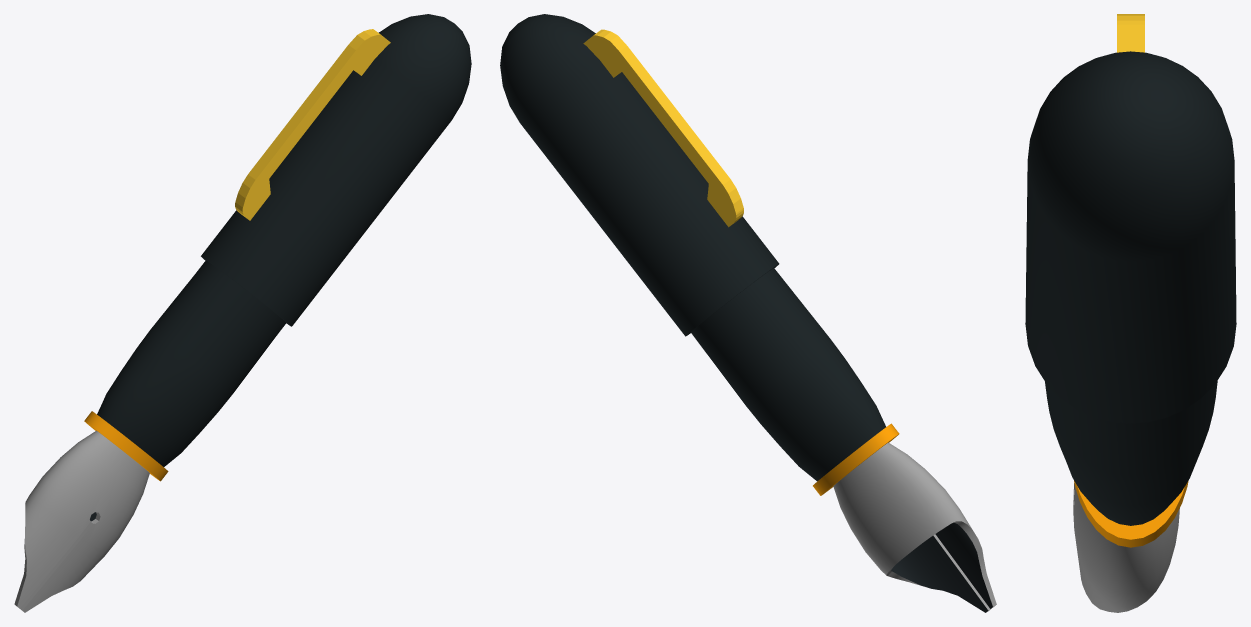
File: fountain_pen.glb
3 renders of one model, left to right at view 1: azimuth 30°, elevation 25°; view 2: azimuth 150°, elevation 25°; view 3: azimuth 270°, elevation 25°, orthographic. The views are drawn at different scales.
Parts seen in each view (by area): view 1: Cylinder.505, Cylinder.507; view 2: Cylinder.505, Cylinder.507; view 3: Cylinder.505, Cylinder.507.
Boxes of the visible parts, box(x1,y1,x2,y2) form: Cylinder.505: box(14, 14, 471, 612); Cylinder.507: box(235, 29, 390, 220); Cylinder.505: box(500, 14, 996, 612); Cylinder.507: box(583, 29, 743, 227); Cylinder.505: box(1025, 51, 1236, 612); Cylinder.507: box(1117, 14, 1144, 52).
Bounding box in the file's own units: 2.08 × 2.08 × 0.4513.
Materials: 1 (1 with a texture image).
